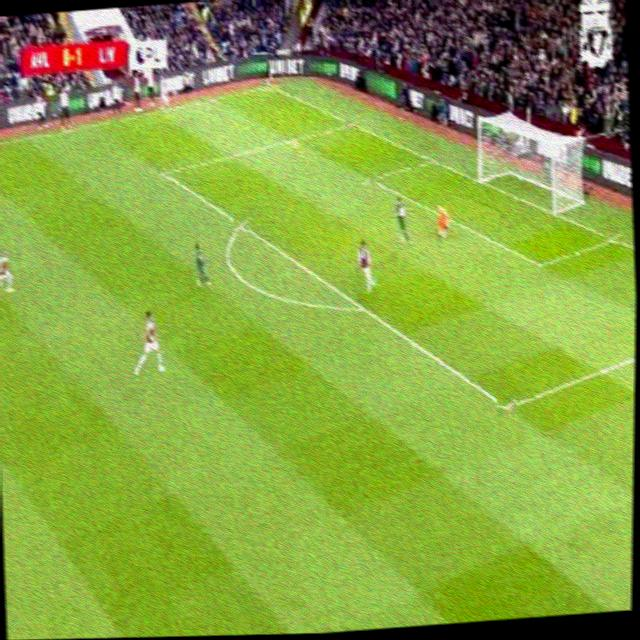bigarea_bottom_inner: (496, 392, 518, 419)
bigarea_top_inner: (156, 162, 172, 182)
bigarea_top_outter: (344, 115, 360, 131)
bottom_arc_area_intersection: (352, 297, 370, 316)
corner: (260, 79, 279, 92)
smallarea_bottom_inner: (530, 251, 549, 275)
smallarea_bottom_outter: (602, 227, 622, 249)
smallarea_top_inner: (361, 169, 377, 186)
smallarea_top_outter: (423, 152, 439, 168)
top_arc_area_intersection: (233, 216, 248, 233)
